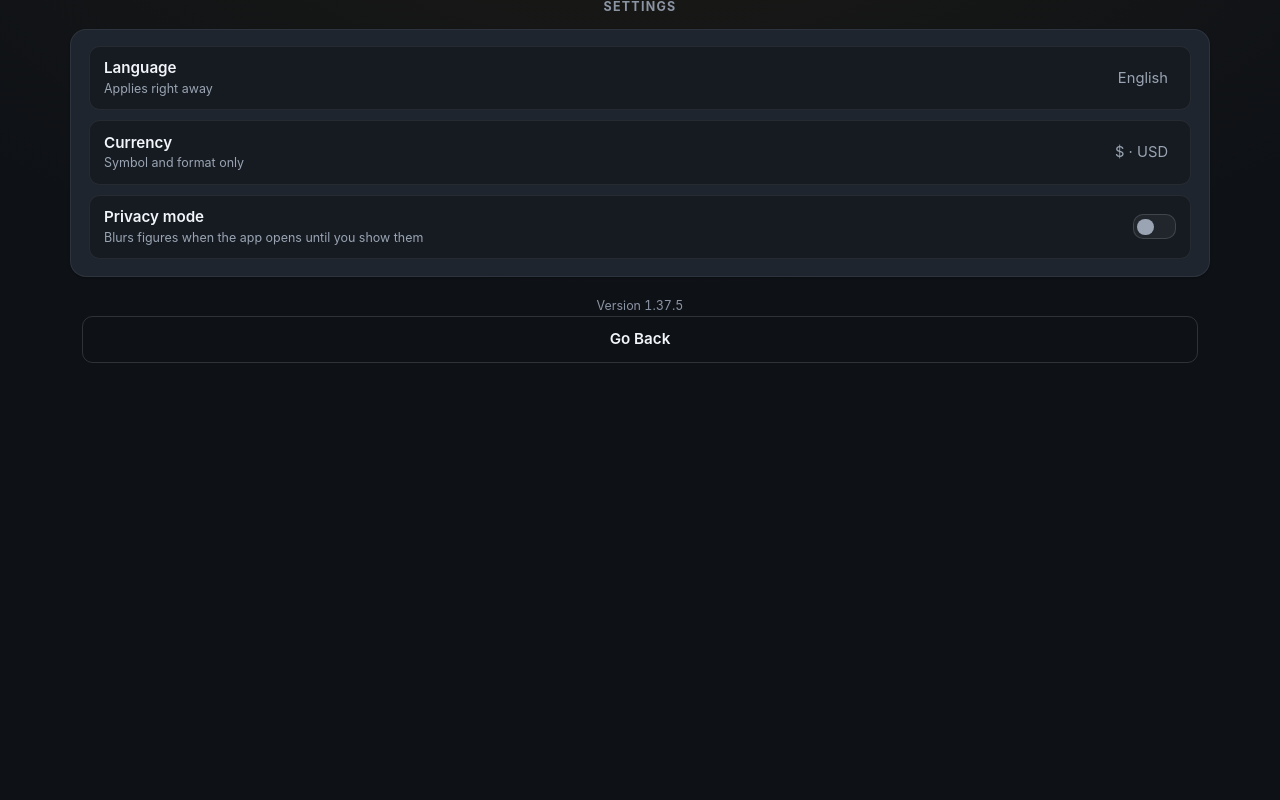
Test: Settings › offers every language by its own name in the Language sheet
What coordinates should you click on to do the following:
click the button "Language Applies right away English"
I would click on:
 (140, 68)
Its box is 89,46 -> 1191,110.
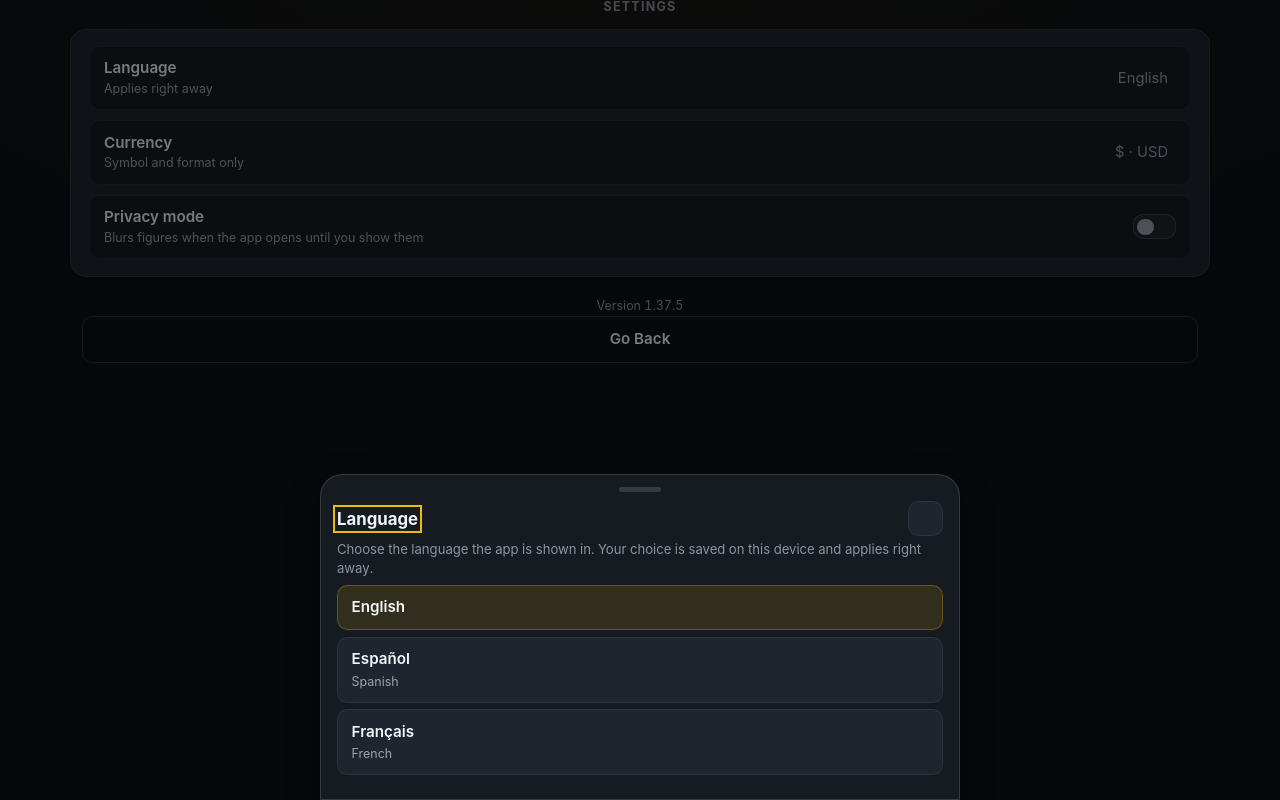
Check: the dialog "Language" is shown, box 320,474 -> 960,799
Check: the radio button labelled "English" is checked, box 337,585 -> 943,630
Check: the radio button labelled "Español Spanish" is not checked, box 337,637 -> 943,703
